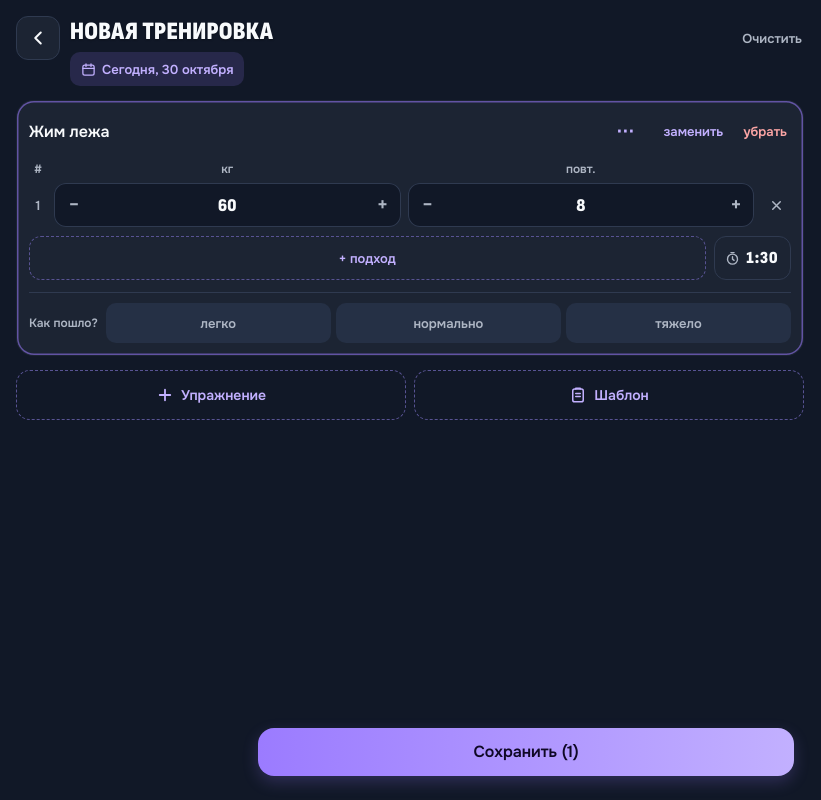
Test case: WorkoutScreen — убрать и сохранить › запись не удалась — «Не сохранилось: …», черновик на месте, можно повторить
Step 1. Click the button "Сохранить (1)" → x=526, y=752, box [258,728,794,776]
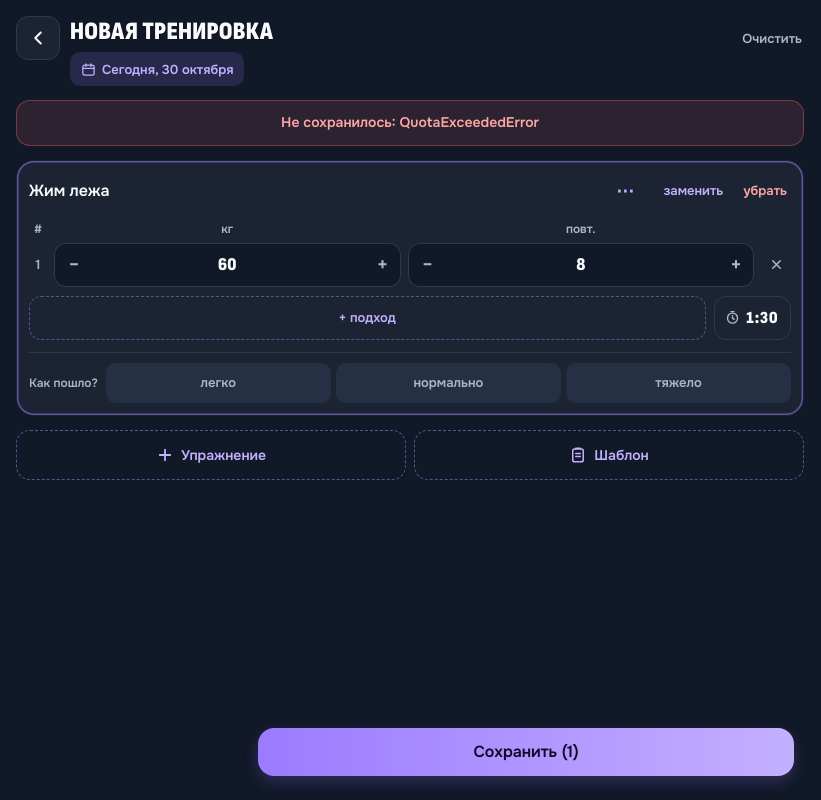
Check: the text "Не сохранилось: QuotaExceededError" is shown, box [16,100,804,146]
